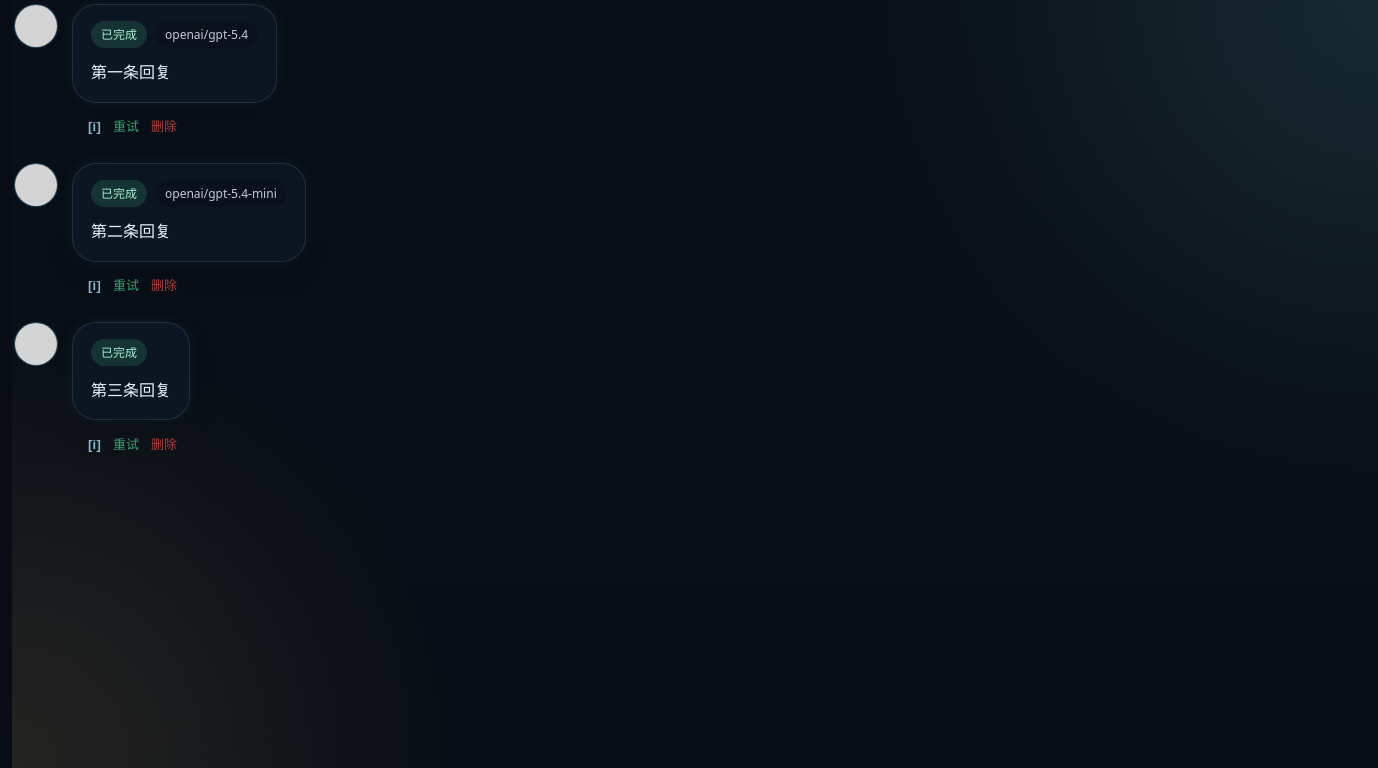
it: ChatMessageList › hides inline usage text and only shows token details in the [i] panel
Check: the button with class "usage-info-toggle" below "第三条回复" reads "[i]", box [88,428,101,460]
Click the button with class "usage-info-toggle" below "第一条回复".
click(95, 127)  # box [88,111,101,143]
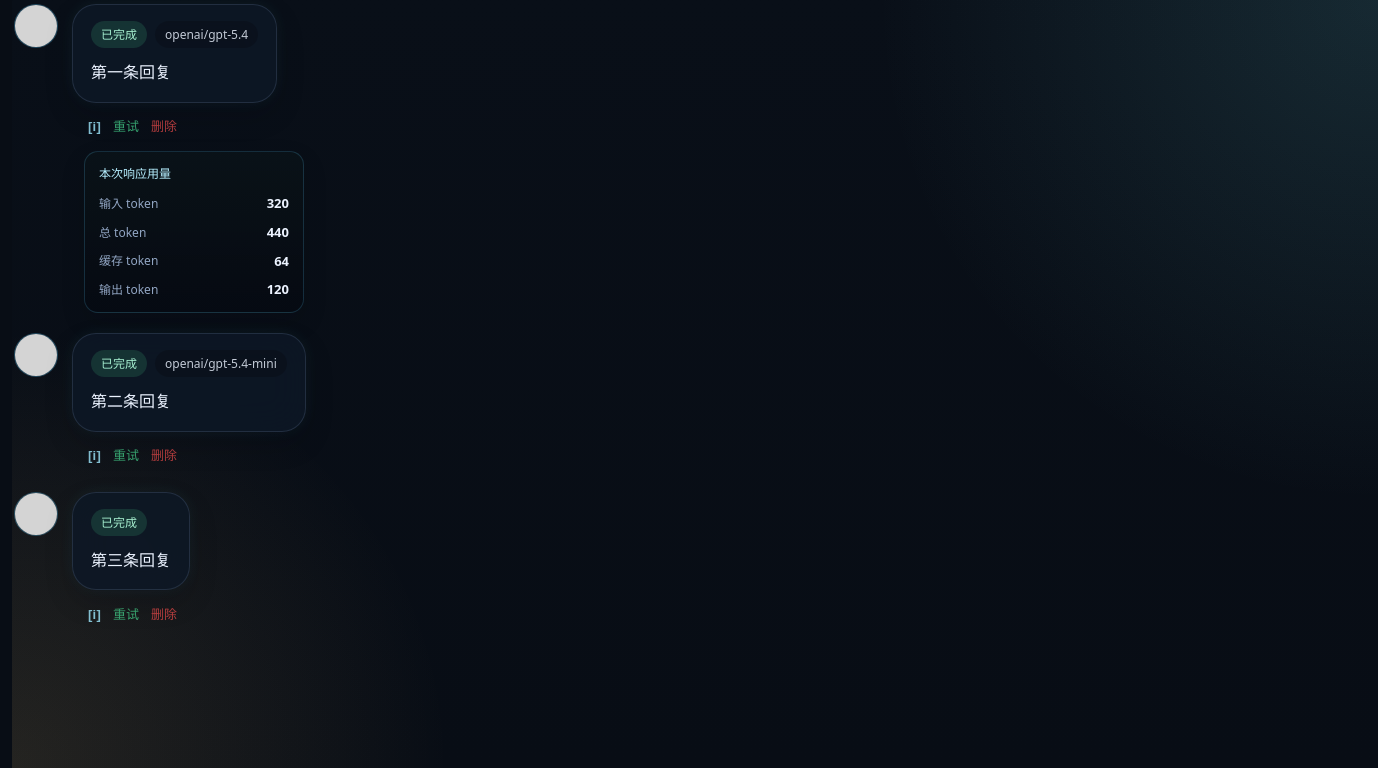
Check: the text "输入 token" is shown, box [99,195,158,212]
Check: the text "320" is shown, box [267,194,289,212]
Check: the text "总 token" is shown, box [99,224,146,241]
Click the button with class "usage-info-toggle" below "第二条回复".
click(95, 456)  # box [88,440,101,472]
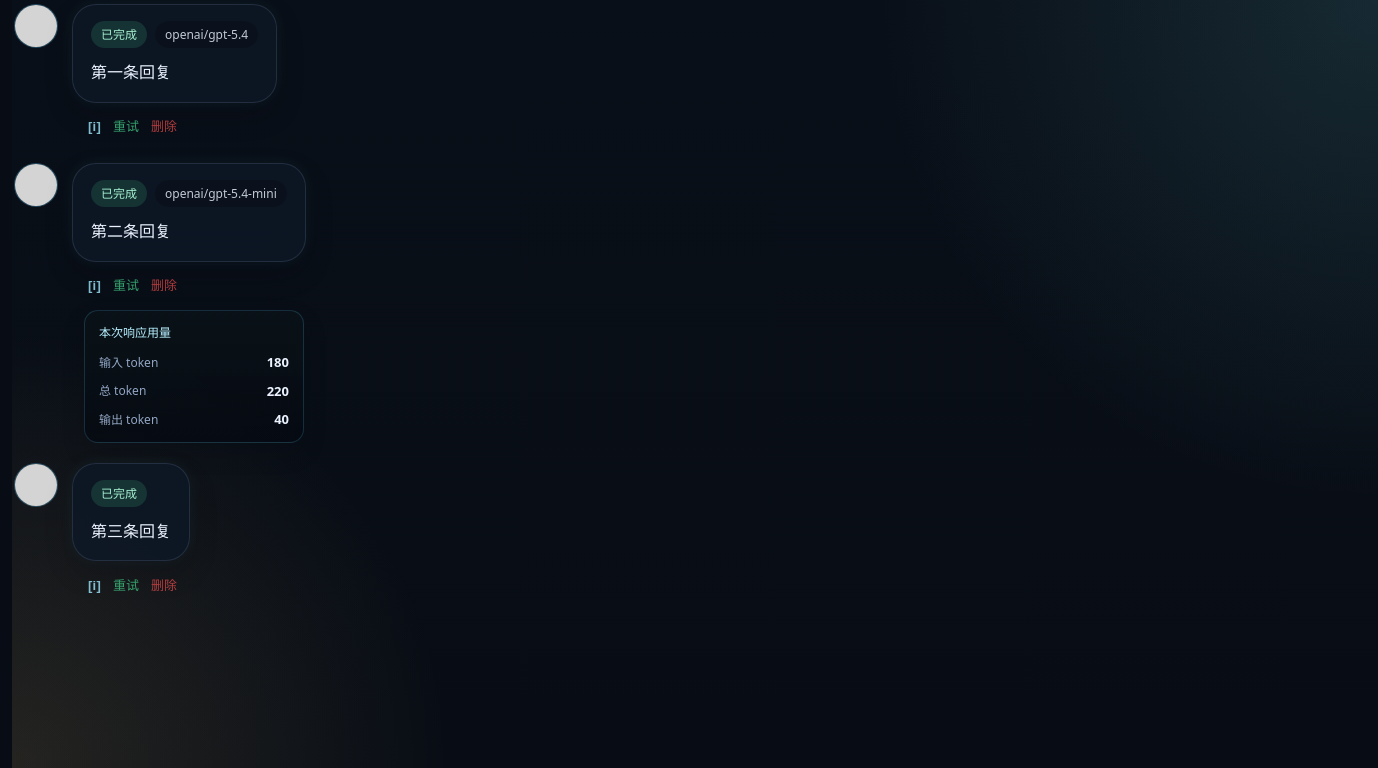
Check: the text "输入 token" is shown, box [99,354,158,370]
Check: the text "180" is shown, box [267,353,289,371]
Check: the text "总 token" is shown, box [99,382,146,399]
Click the button with class "usage-info-toggle" below "第三条回复".
click(95, 586)  # box [88,570,101,602]
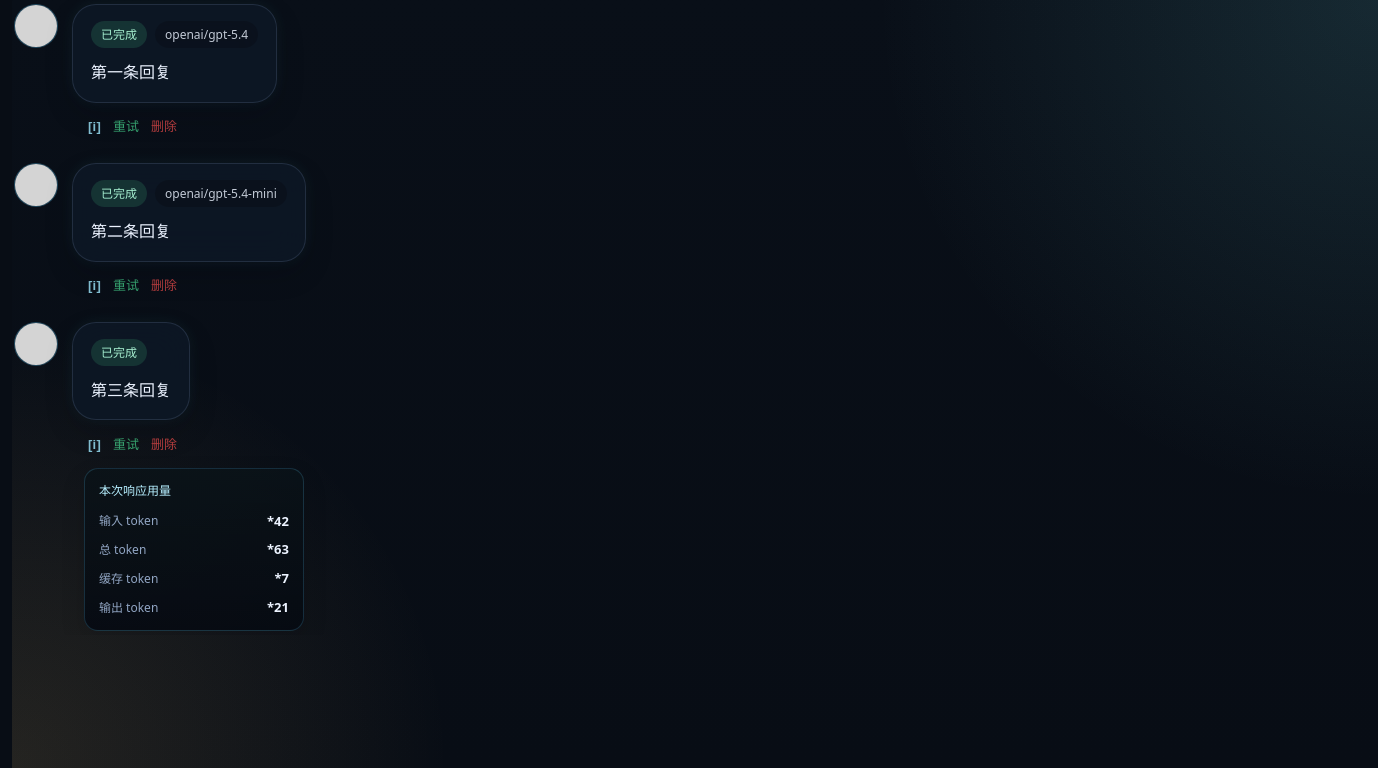
Check: the text "输入 token" is shown, box [99,512,158,529]
Check: the text "*42" is shown, box [267,512,289,530]
Check: the text "总 token" is shown, box [99,541,146,558]
